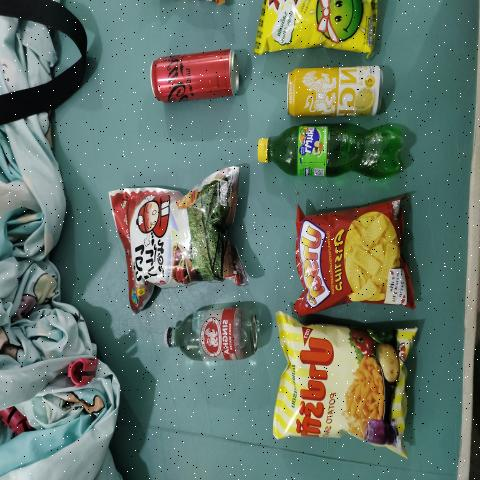coke_red: (151, 44, 247, 104)
fanta_green: (254, 118, 416, 188)
paprika: (284, 320, 404, 434)
party_red: (309, 212, 397, 306)
singha_soda: (159, 305, 271, 362)
singha_yellow: (287, 62, 384, 118)
taokaenoi: (120, 169, 241, 302)
